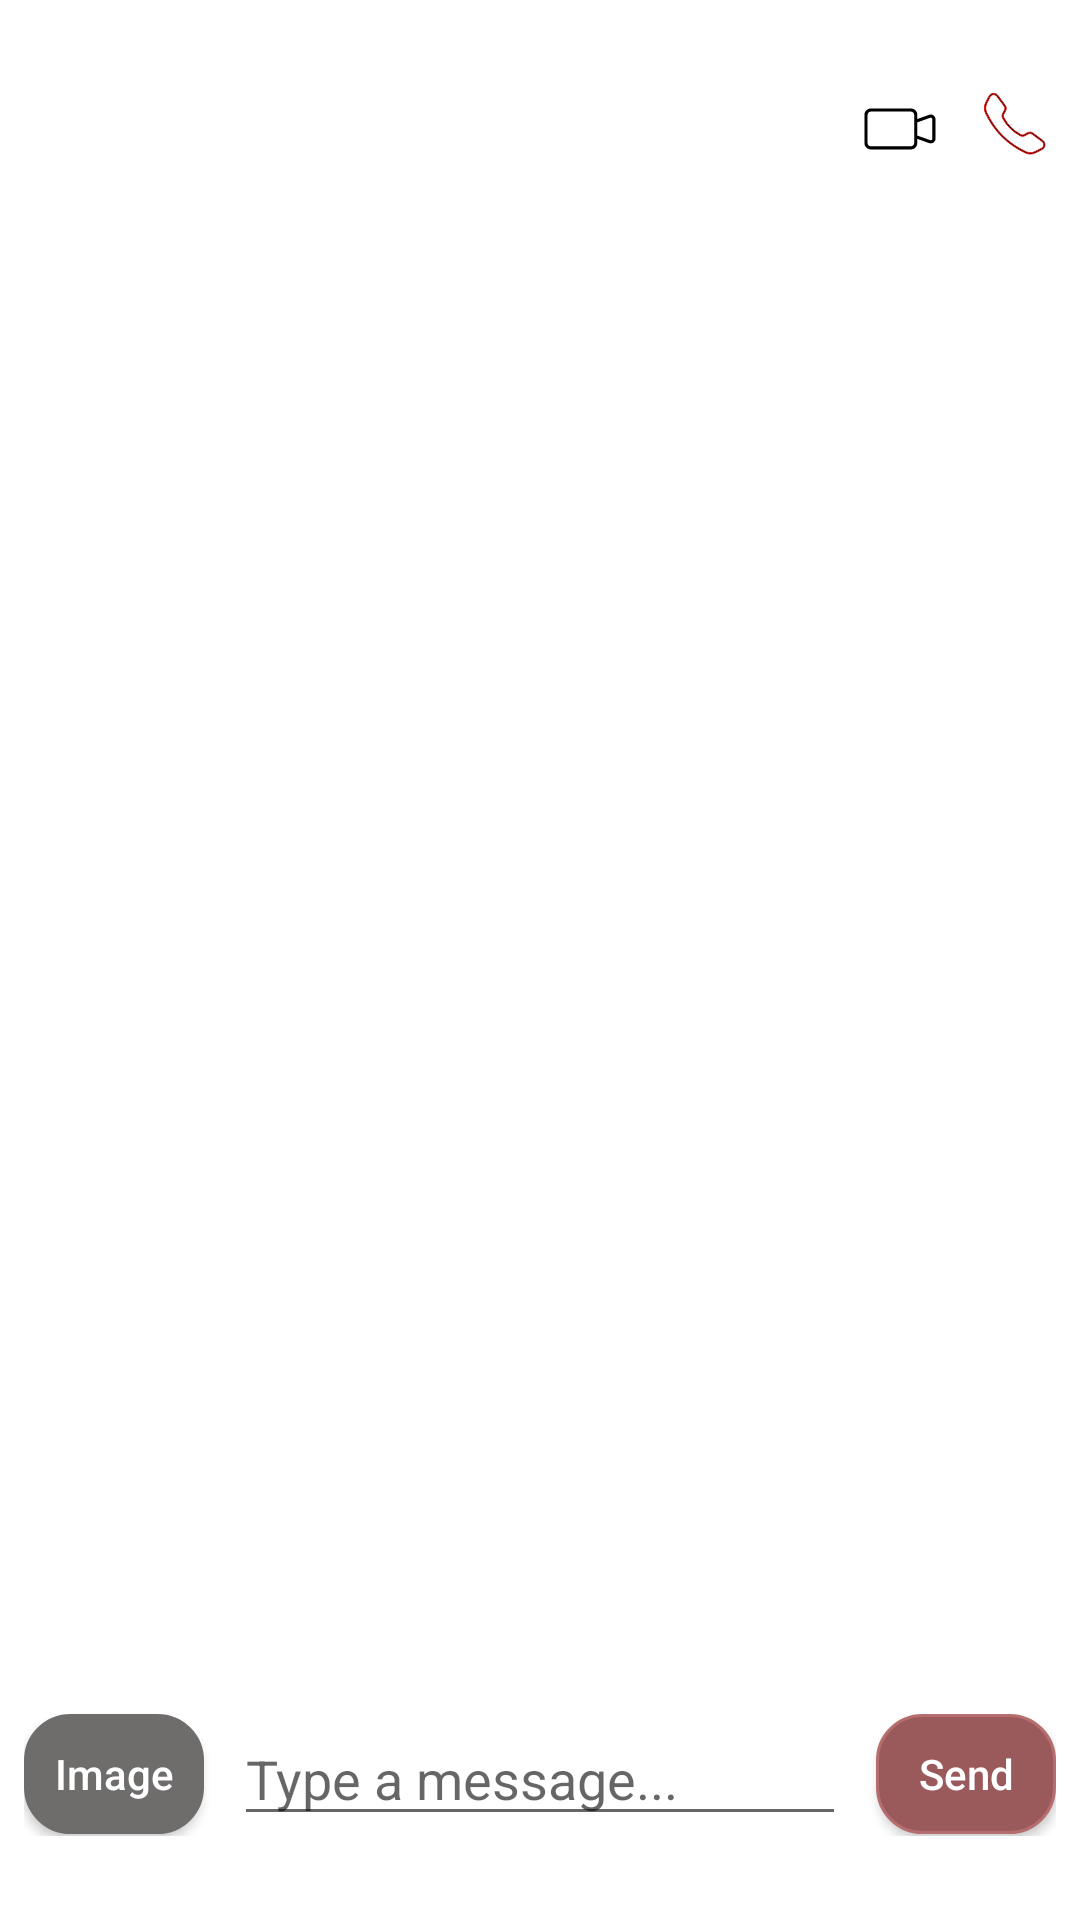

Icons on this 1080px x 1920px Android screen, each with its box as (x1, y1, x2, y2):
phone: (984, 93, 1046, 155)
video camera: (864, 108, 936, 150)
